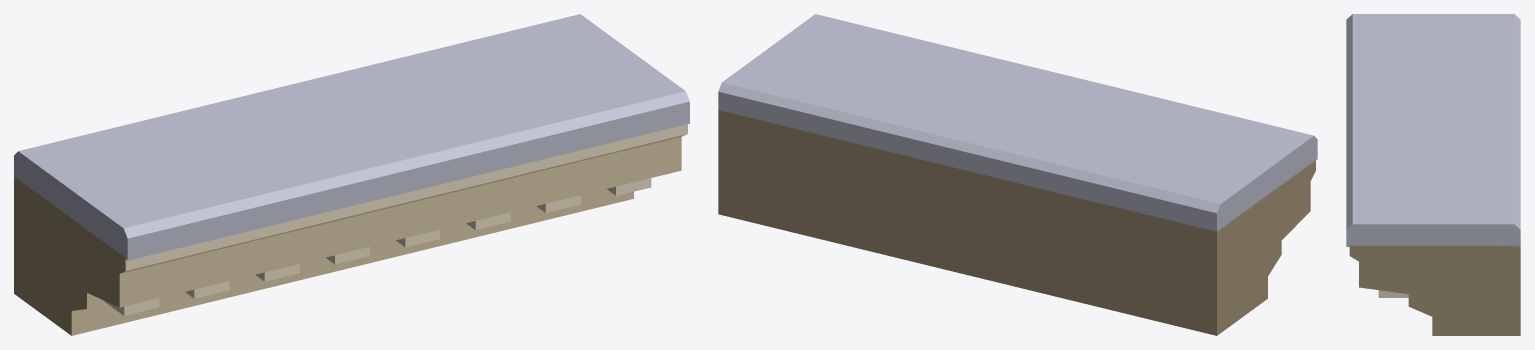
The model's file is Cornice_8.fbx.
3 views of the same model, side by side, from view 1: azimuth 30°, elevation 25°; view 2: azimuth 150°, elevation 25°; view 3: azimuth 270°, elevation 25° (orthographic). The views are drawn at different scales.
Visible parts, largest first — view 1: Cornice_8; view 2: Cornice_8; view 3: Cornice_8.
Boxes of the visible parts, x1,y1,x2,y2 form: Cornice_8: [14, 14, 689, 335]; Cornice_8: [718, 14, 1317, 335]; Cornice_8: [1346, 14, 1520, 335].
Size of the model in its own units: 8 by 1.98 by 2.8.
1 material, 1 textured.
